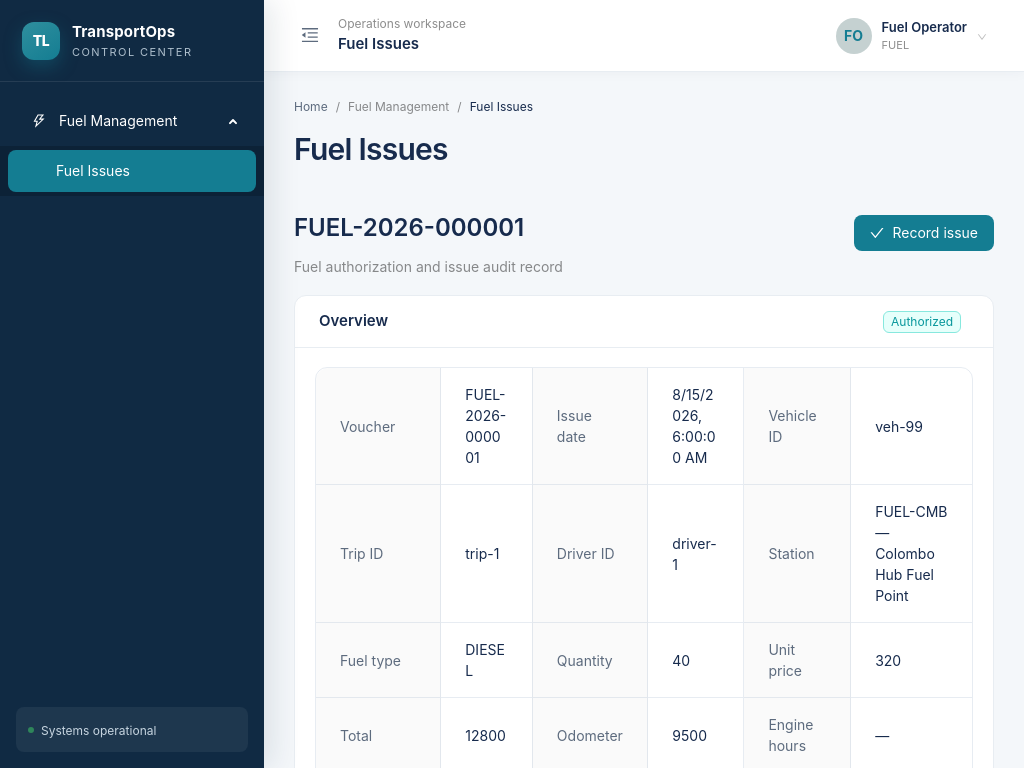
Test: Fuel Issue MVP pages › displays chronology conflict error when fuel issue reading is rejected by backend
Step 1. Click the button "Record issue" → (924, 232), box [854,214,994,250]
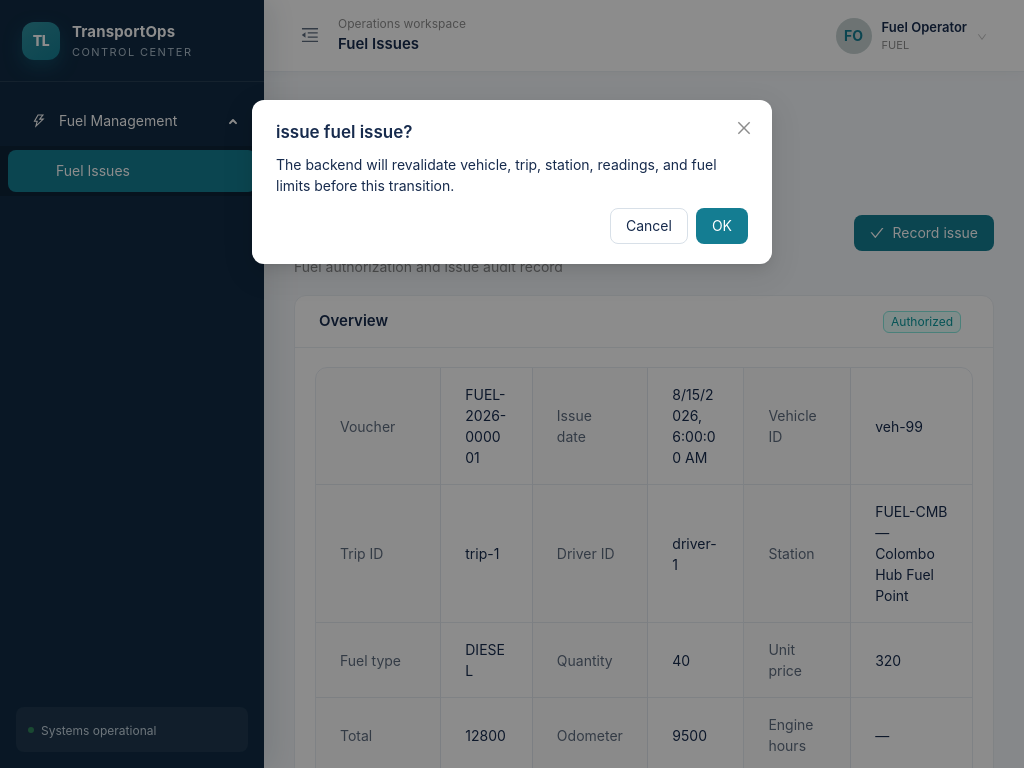
Step 2. Click the button "OK" → (722, 226), box [696,208,748,244]
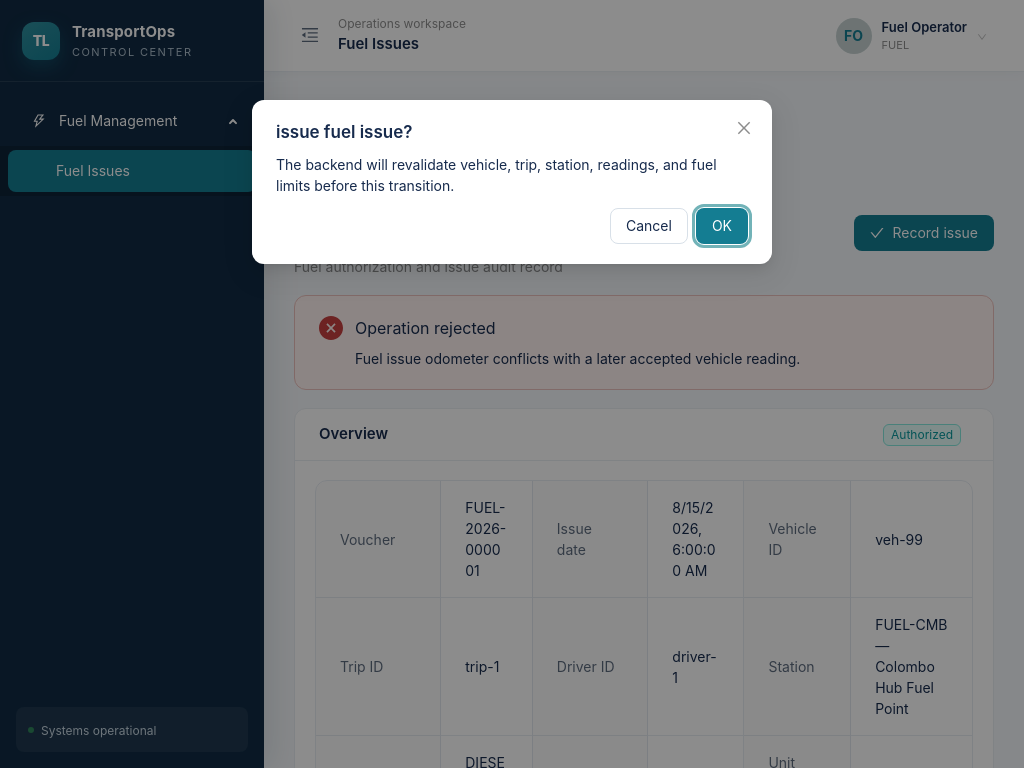
Result: the text "Fuel issue odometer conflicts with a later accepted vehicle reading." is shown at [355,350,800,367]
